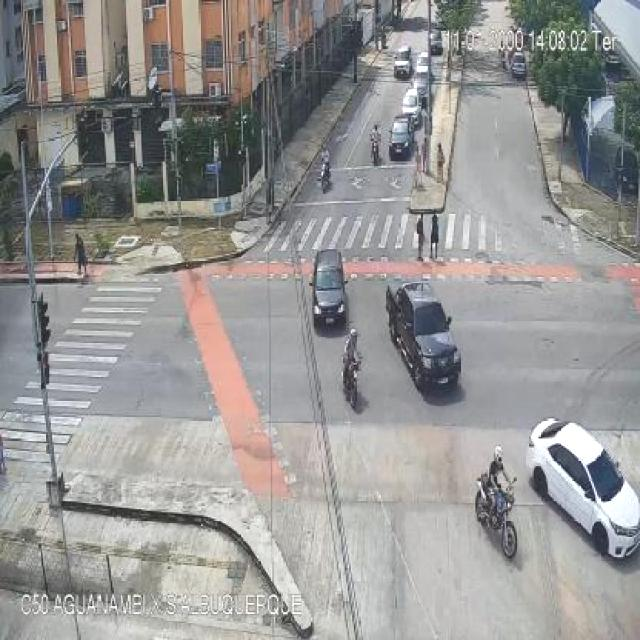Car: (516, 410, 640, 560), (389, 278, 471, 402), (297, 234, 348, 326), (386, 110, 414, 162), (407, 80, 435, 106), (399, 87, 421, 119), (413, 45, 433, 77)
Cycle: (477, 446, 528, 562), (326, 335, 386, 416), (365, 119, 388, 165), (314, 143, 332, 191)
Van: (386, 45, 414, 78)
